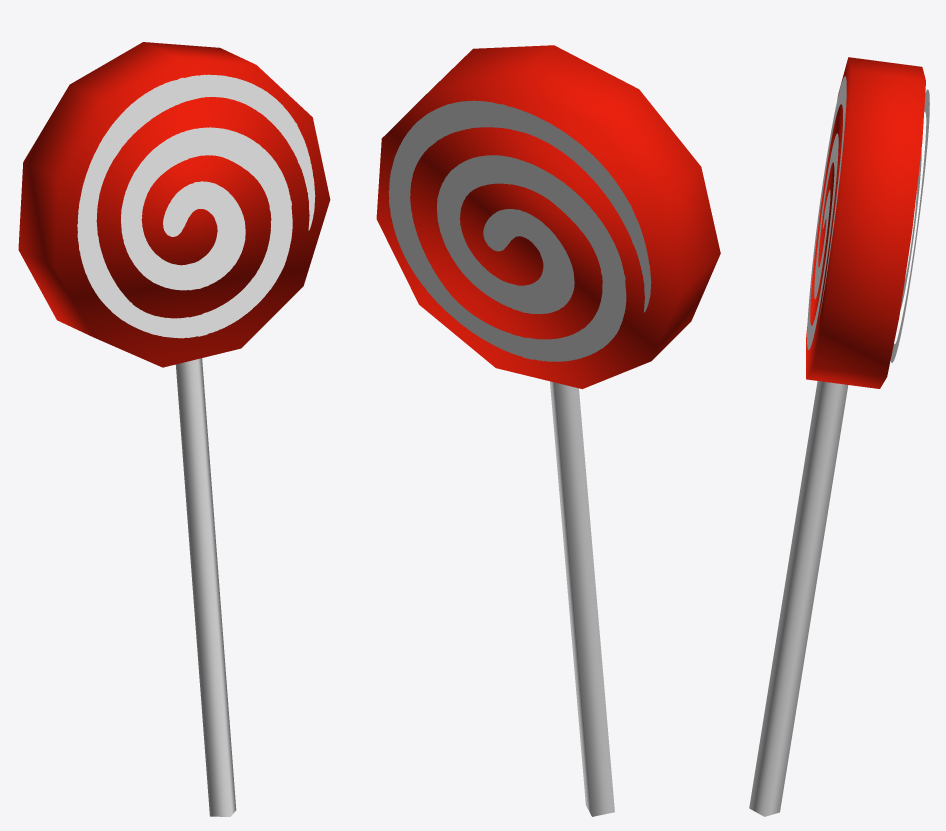
The model's file is Candy.fbx.
3 views of the same model, side by side, from view 1: azimuth 30°, elevation 25°; view 2: azimuth 150°, elevation 25°; view 3: azimuth 270°, elevation 25° (orthographic). The views are drawn at different scales.
Visible parts, largest first — view 1: Cylinder.002, candyspiral, Cylinder.001; view 2: Cylinder.002, candyspiral.001, Cylinder.001; view 3: Cylinder.002, Cylinder.001, candyspiral, candyspiral.001.
Boxes of the visible parts, x1,y1,x2,y2 form: Cylinder.002: [18, 42, 330, 367]; candyspiral: [77, 74, 315, 338]; Cylinder.001: [176, 358, 236, 816]; Cylinder.002: [376, 45, 720, 389]; candyspiral.001: [388, 100, 651, 361]; Cylinder.001: [550, 381, 614, 816]; Cylinder.002: [806, 57, 925, 388]; Cylinder.001: [749, 381, 848, 816]; candyspiral: [807, 76, 846, 349]; candyspiral.001: [890, 89, 929, 362].
Size of the model in its own units: 41.68 by 105 by 23.42.
